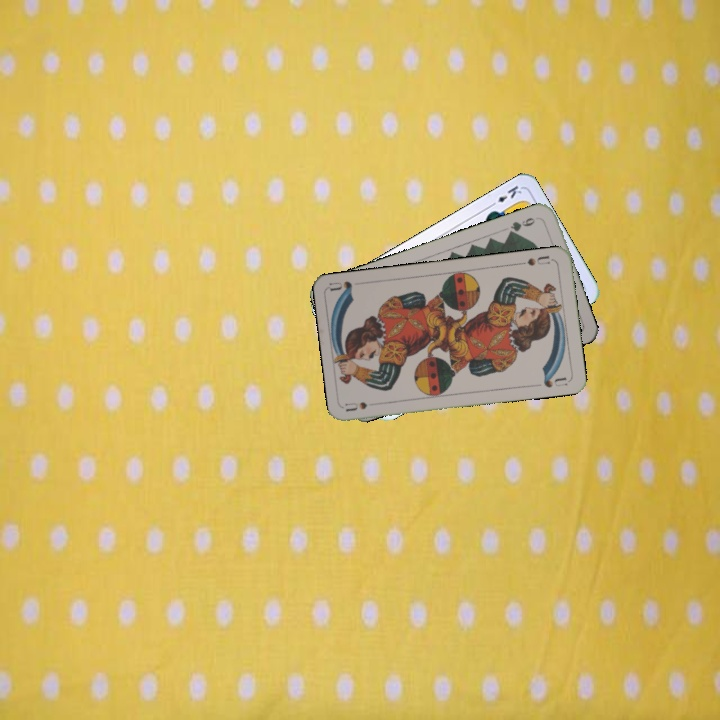EK: (486, 181, 524, 210)
G9: (504, 213, 541, 238)
SU: (515, 251, 555, 268), (342, 398, 370, 414)
